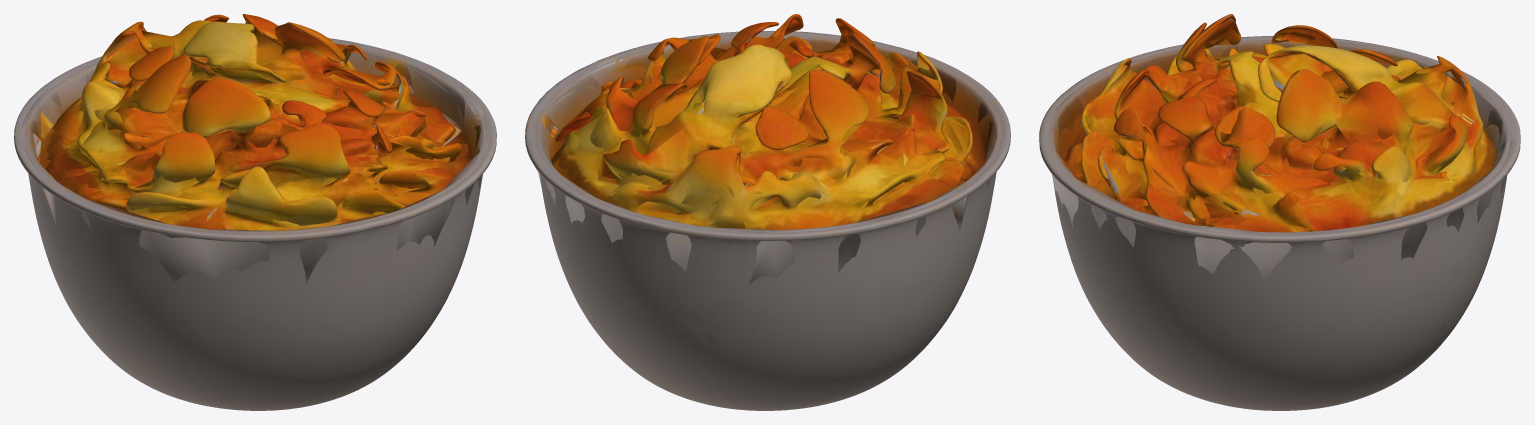
File: w3petalsteel.glb
3 renders of one model, left to right at view 1: azimuth 30°, elevation 25°; view 2: azimuth 150°, elevation 25°; view 3: azimuth 270°, elevation 25°, orthographic.
Visible parts, largest first — view 1: w3petalsteel_near, w3petalsteel_far; view 2: w3petalsteel_near, w3petalsteel_far; view 3: w3petalsteel_near, w3petalsteel_far.
Boxes of the visible parts, <box> form: w3petalsteel_near: <box>14,14,496,410</box>; w3petalsteel_far: <box>19,17,489,337</box>; w3petalsteel_near: <box>525,14,1010,410</box>; w3petalsteel_far: <box>535,17,999,284</box>; w3petalsteel_near: <box>1039,14,1520,410</box>; w3petalsteel_far: <box>1050,18,1517,282</box>.
Size of the model in its own units: 0.36 by 0.2689 by 0.3608.
Materials: 1 (1 with a texture image).
